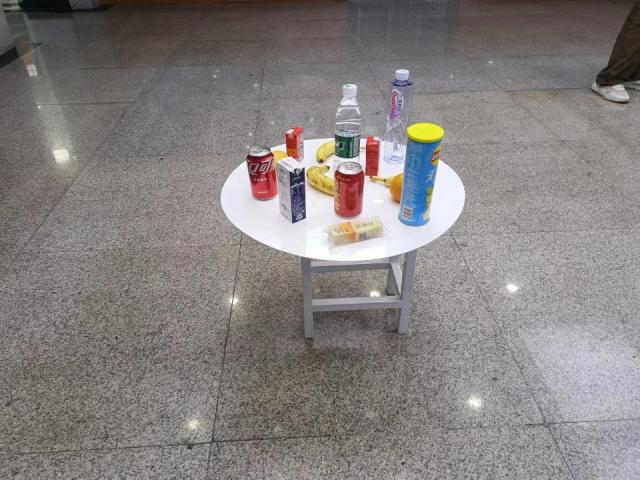Canned_drinks: (332, 161, 365, 217), (246, 145, 278, 201)
bottle: (386, 68, 414, 167), (334, 83, 362, 167)
cylinder: (401, 123, 445, 227)
drink_box: (275, 156, 307, 223), (364, 136, 382, 177), (286, 126, 305, 161)
